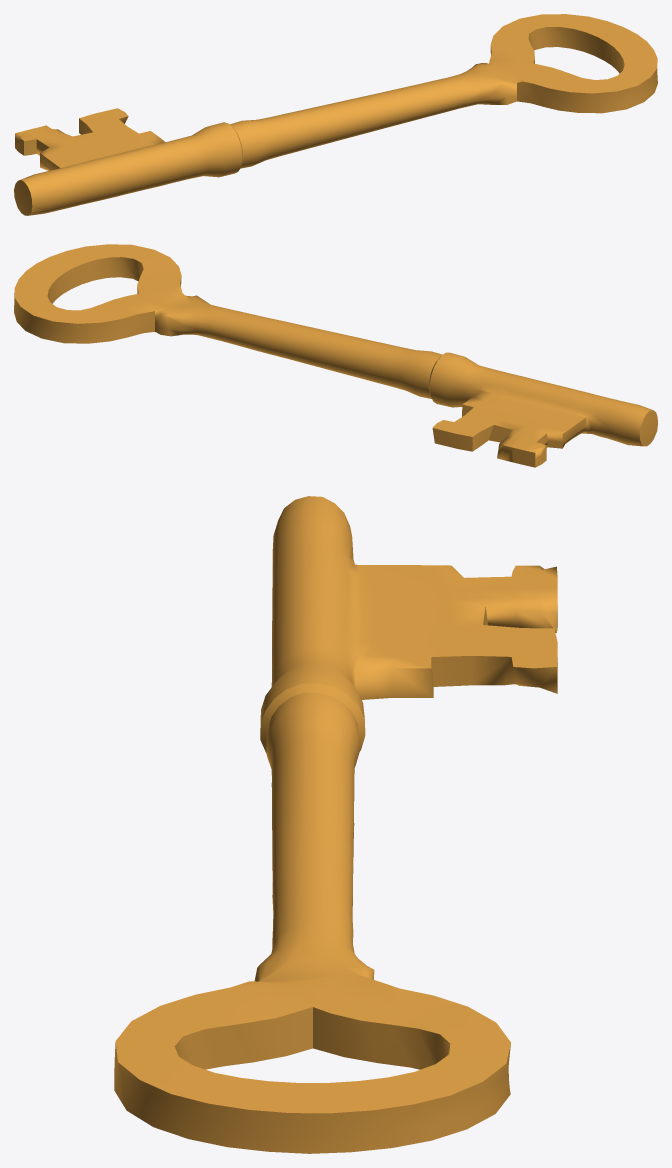
Rendered from Key.fbx.
3 views of the same model, one above another, from view 1: azimuth 30°, elevation 25°; view 2: azimuth 150°, elevation 25°; view 3: azimuth 270°, elevation 25° (orthographic). The views are drawn at different scales.
Visible parts, largest first — view 1: Key; view 2: Key; view 3: Key.
Part boxes in pixels (box(x1,y1,x2,y2)): Key: box(14, 14, 657, 215); Key: box(14, 244, 657, 467); Key: box(114, 496, 557, 1153).
Size of the model in its own units: 20.19 by 1.48 by 6.26.
